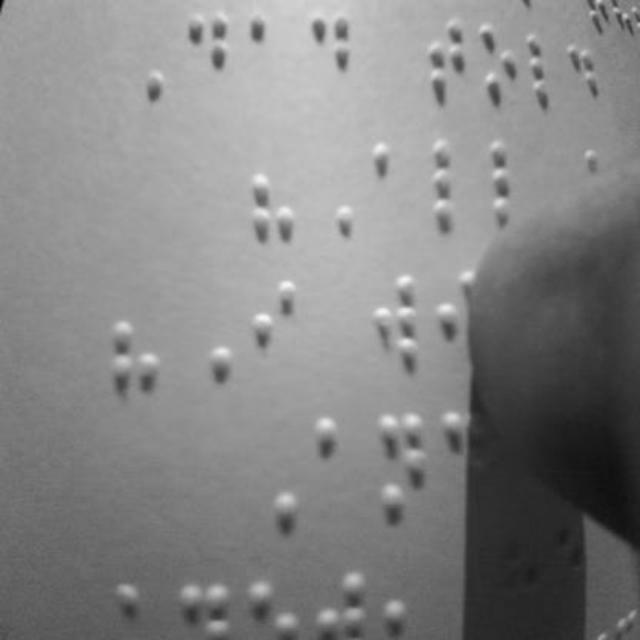braiile: (246, 272, 302, 388), (375, 410, 431, 522), (310, 412, 366, 520), (486, 130, 546, 226), (182, 1, 234, 105), (308, 4, 362, 104), (378, 271, 432, 371), (370, 136, 426, 232), (423, 1, 475, 101), (478, 5, 528, 105), (244, 4, 296, 100), (430, 136, 482, 232), (528, 24, 566, 104)
